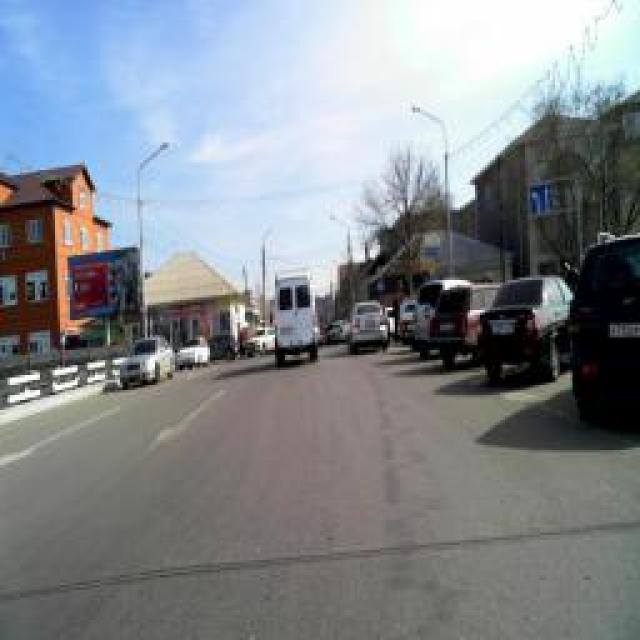sign: (376, 265, 384, 277)
